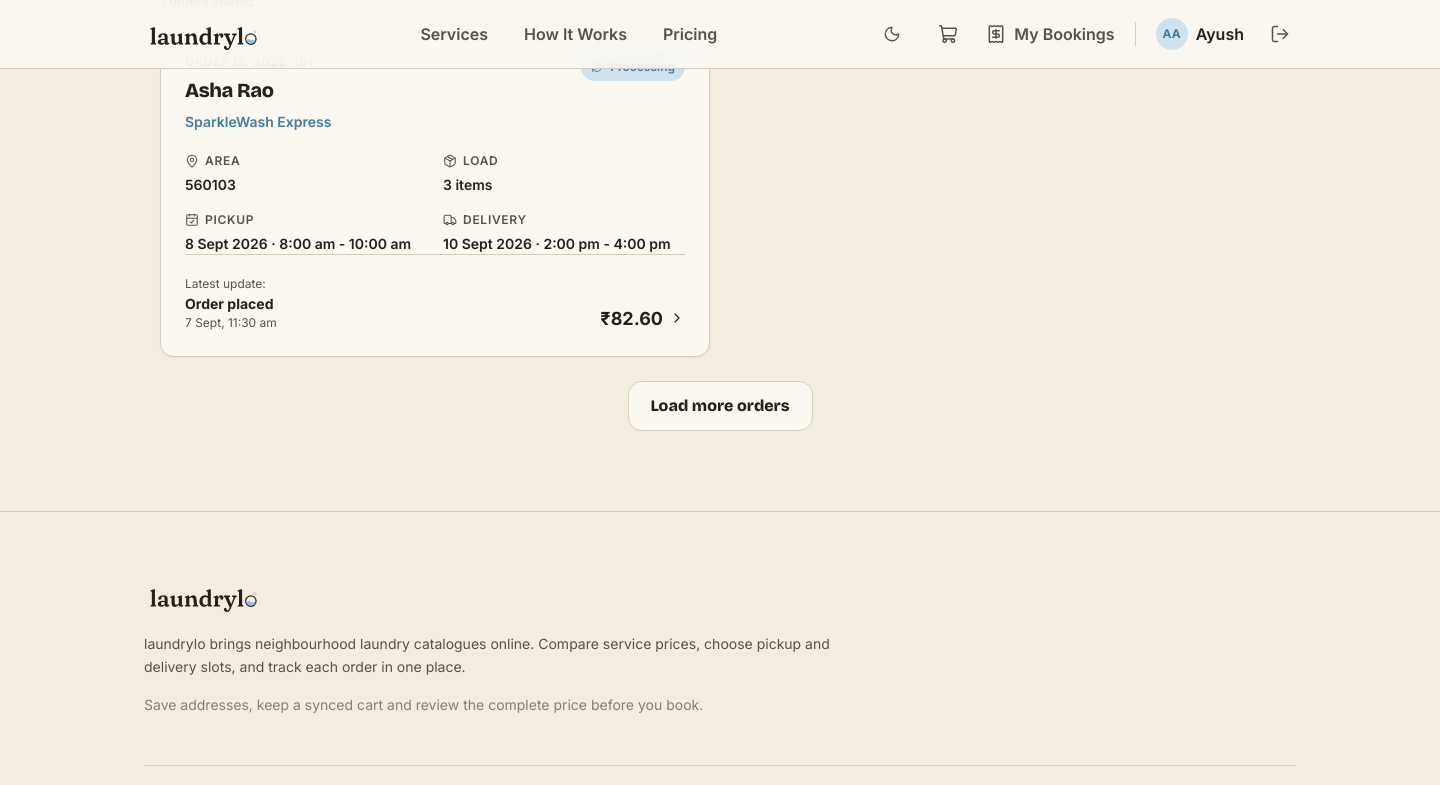
it: laundry-partner order portal › paginates the queue and asks the server for the selected status
(page scrolled)
expect the heading "Asha Rao" is shown: met, box [185,78,274,102]
Click the button "Load more orders" at (720, 406), box [628,381,812,431]
(page scrolled)
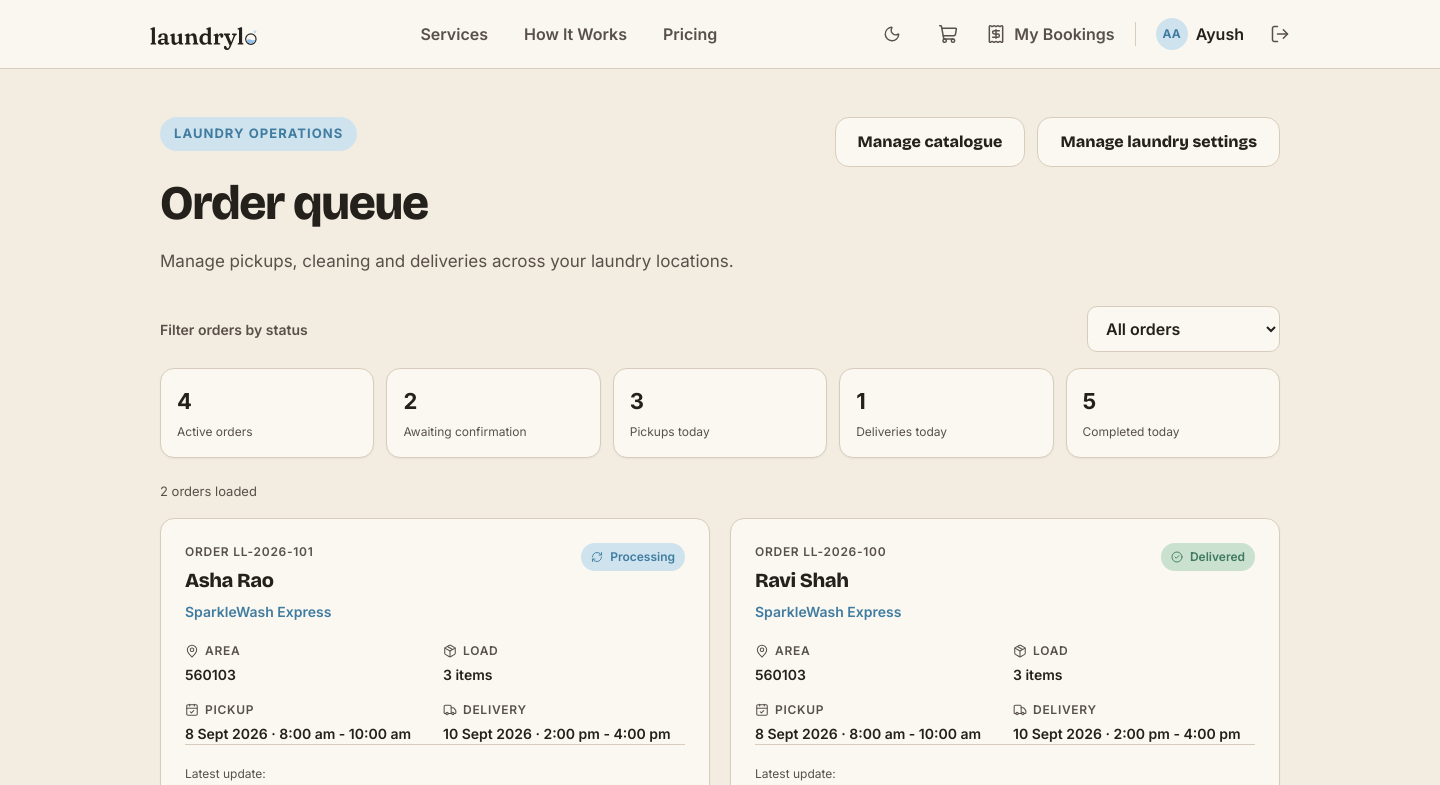
expect the heading "Ravi Shah" is shown: met, box [755,568,848,592]
expect the text "2 orders loaded" is shown: met, box [160,483,257,499]
Select "Delivered" in the dropdown labelled "Filter orders by status" at (1184, 329), box [1087,306,1280,352]
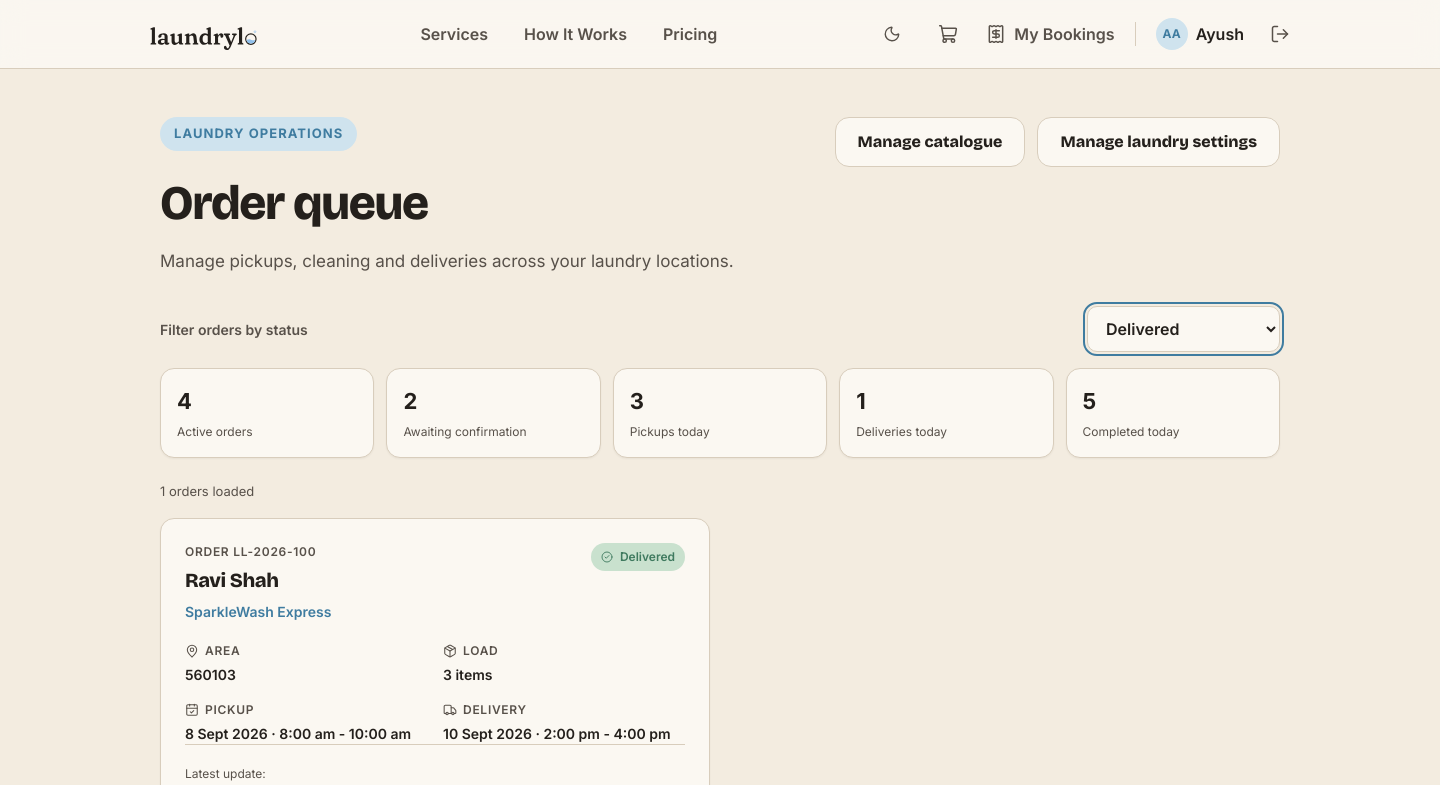
expect the heading "Ravi Shah" is shown: met, box [185,568,278,592]
expect the link "Asha Rao" is gone: met
